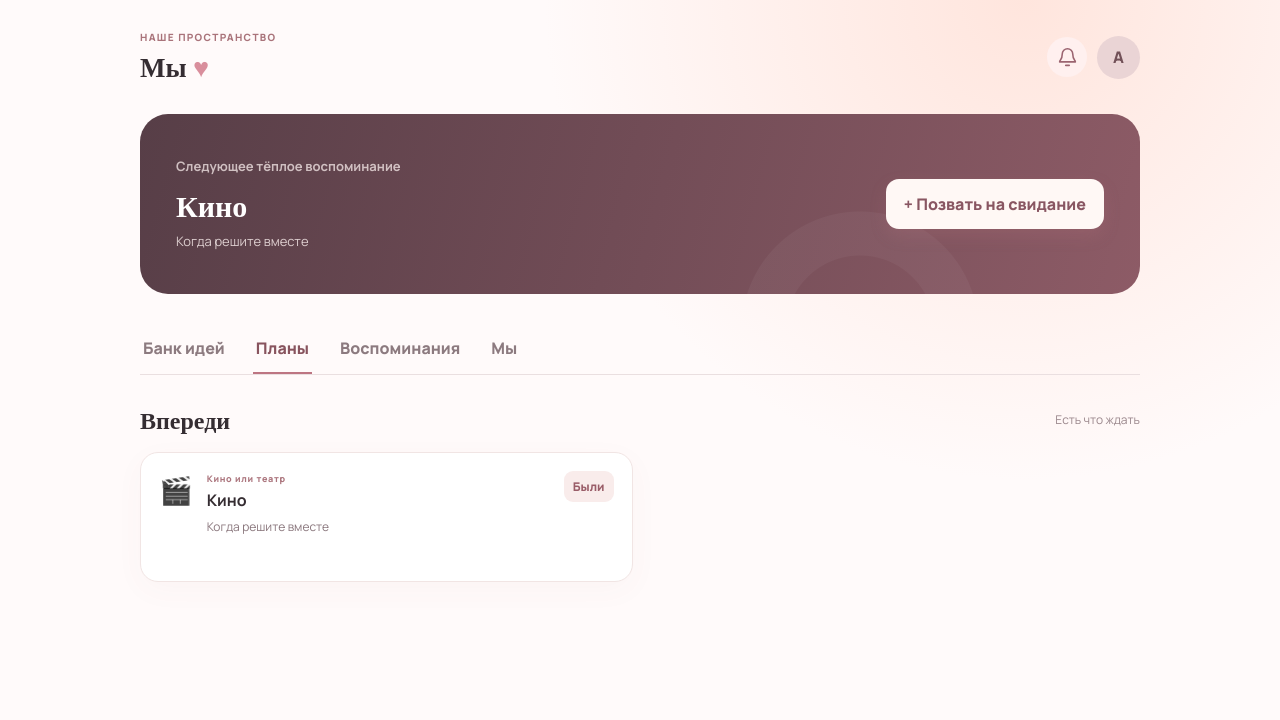
date details › opens details when the date emoji is clicked
Click the button with class "date-emoji": (176, 490) [159,471,193,508]
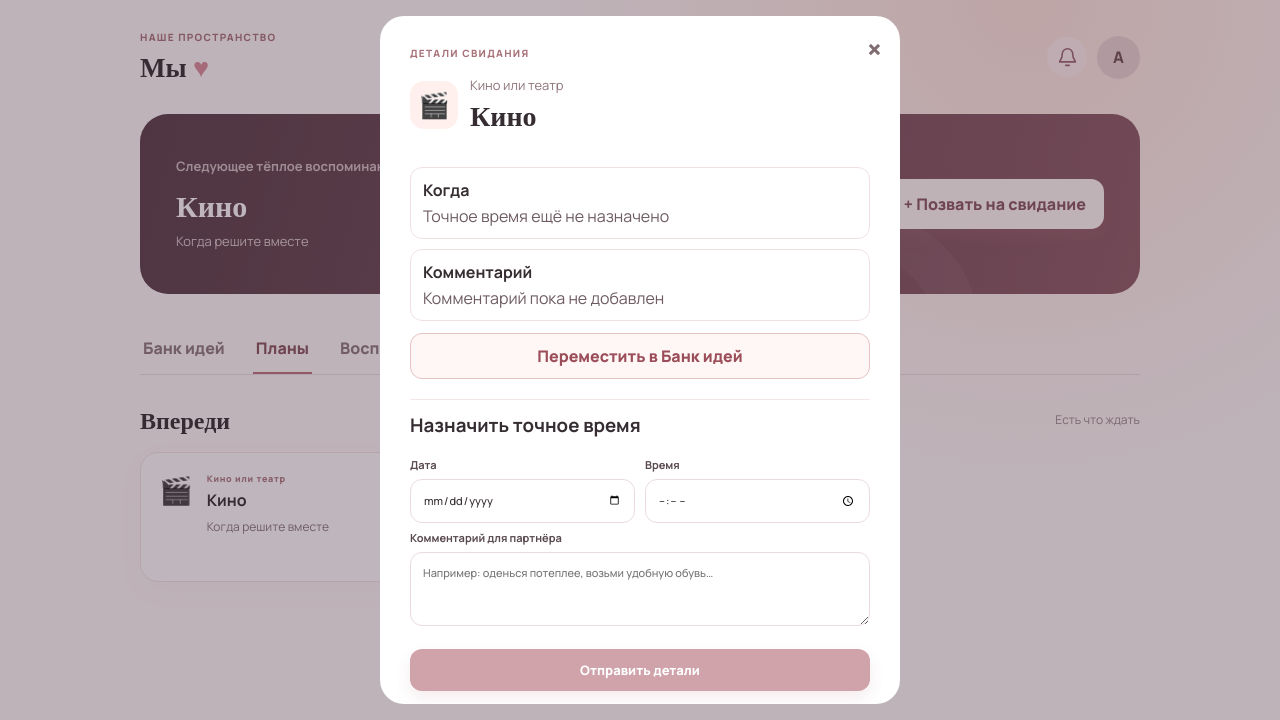
Expected: the dialog "ДЕТАЛИ СВИДАНИЯ" is shown, [380,16,900,704]
